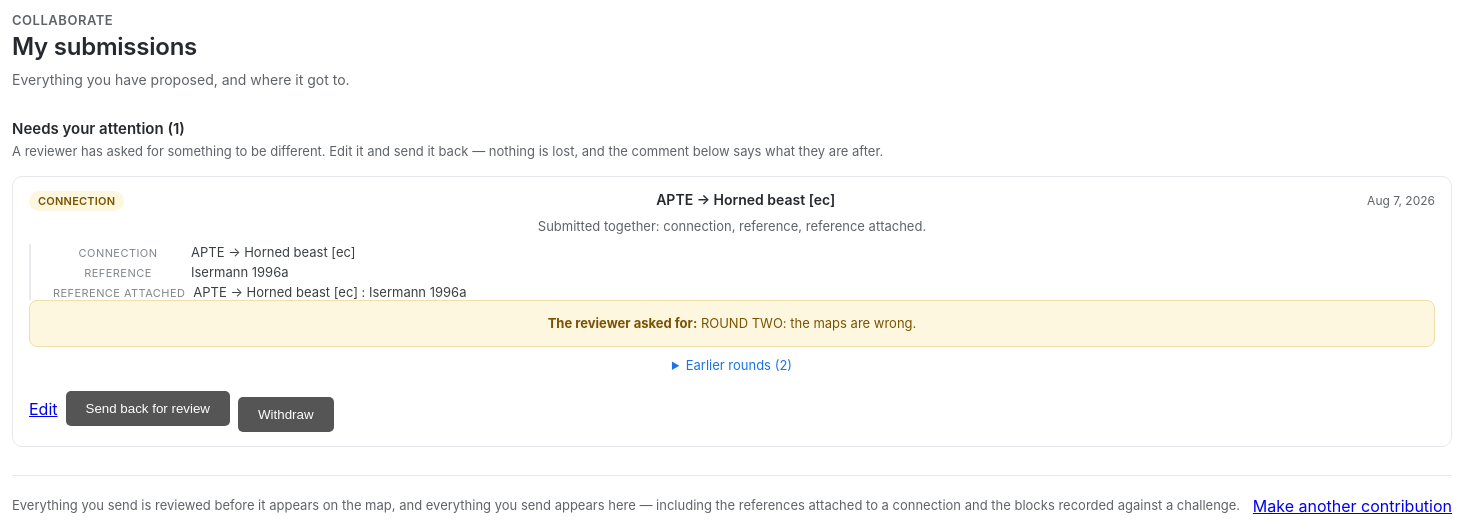
my submissions › resubmits a revised submission back to pending
Step 1. Click the button "Send back for review" → (148, 409), box [66, 391, 230, 426]
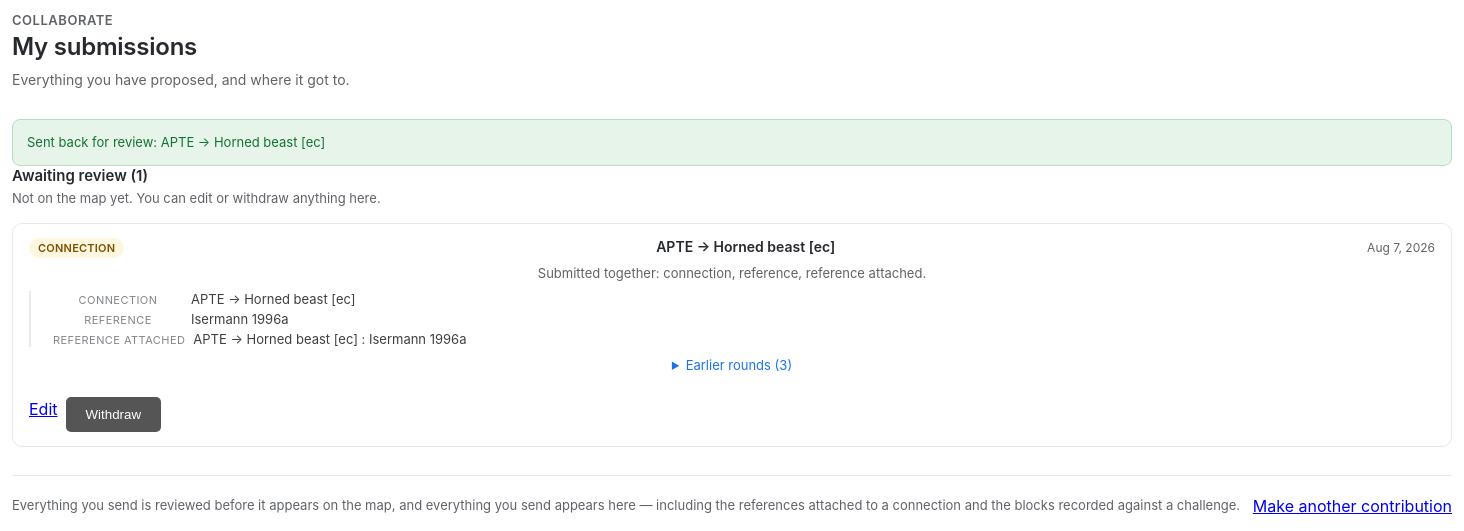
Expected: the heading "Awaiting review (1)" is shown, [12, 166, 148, 185]
